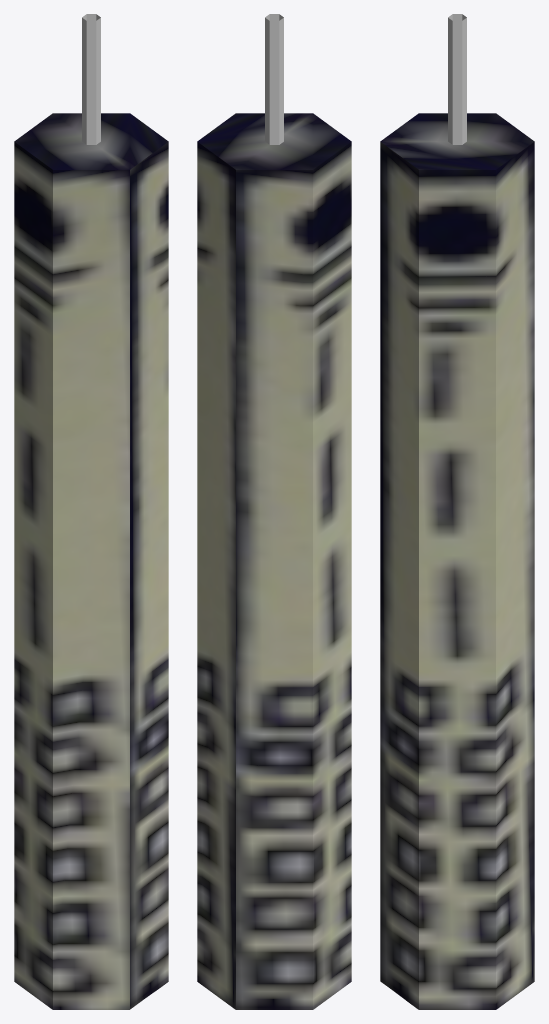
File: amnesty.dae
3 views of the same model, side by side, from view 1: azimuth 30°, elevation 25°; view 2: azimuth 150°, elevation 25°; view 3: azimuth 270°, elevation 25° (orthographic).
Visible parts, largest first — view 1: Circle, Circle.001; view 2: Circle, Circle.001; view 3: Circle, Circle.001.
Part boxes in pixels (x1=…): Circle: x1=14, y1=113, x2=168, y2=1009; Circle.001: x1=82, y1=14, x2=100, y2=144; Circle: x1=197, y1=113, x2=351, y2=1009; Circle.001: x1=265, y1=14, x2=283, y2=144; Circle: x1=380, y1=113, x2=534, y2=1009; Circle.001: x1=448, y1=14, x2=466, y2=144.
Bounding box in the file's own units: 1.73 × 2 × 13.77.
